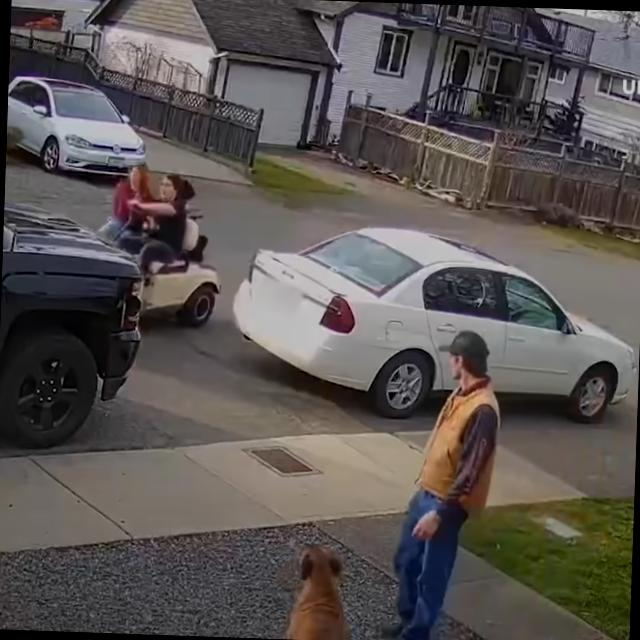person: (380, 326, 504, 640), (116, 170, 195, 279), (99, 161, 154, 248)
